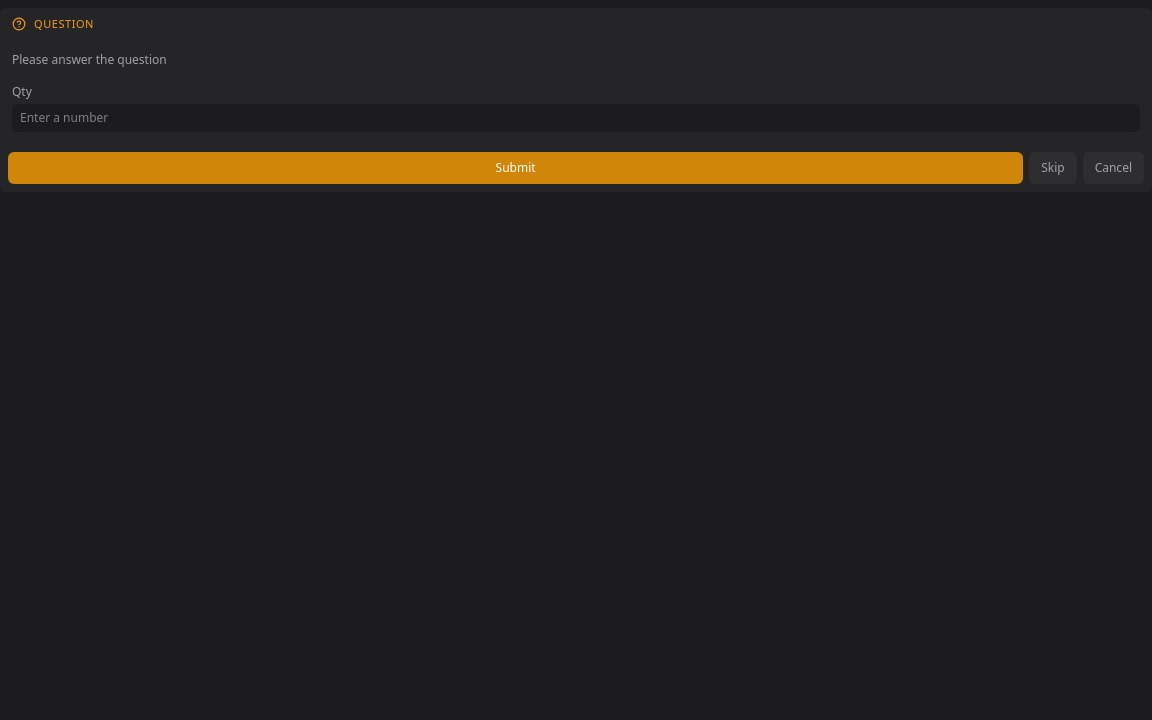
Scenario: AskUserQuestionCard number / integer › enforces minimum and maximum
In the number field with placeholder "Enter a number": (576, 118) left=12, top=104, right=1140, bottom=132, type "0"
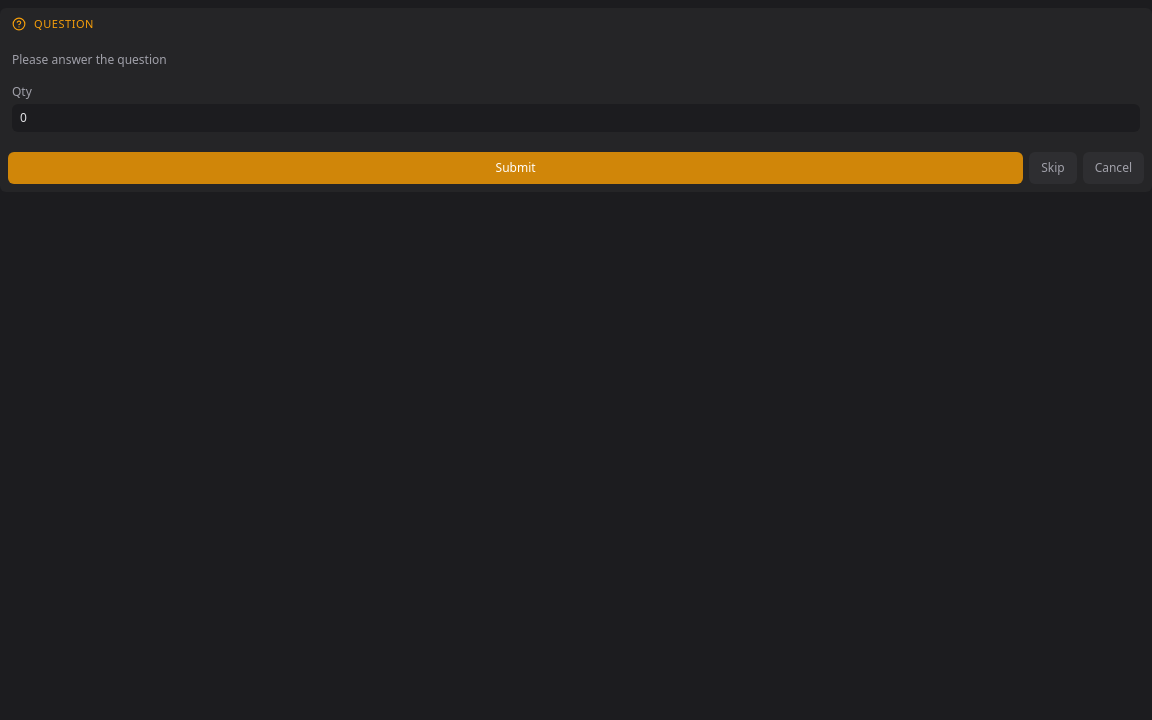
Click the button "Submit": (516, 168) left=8, top=152, right=1023, bottom=184
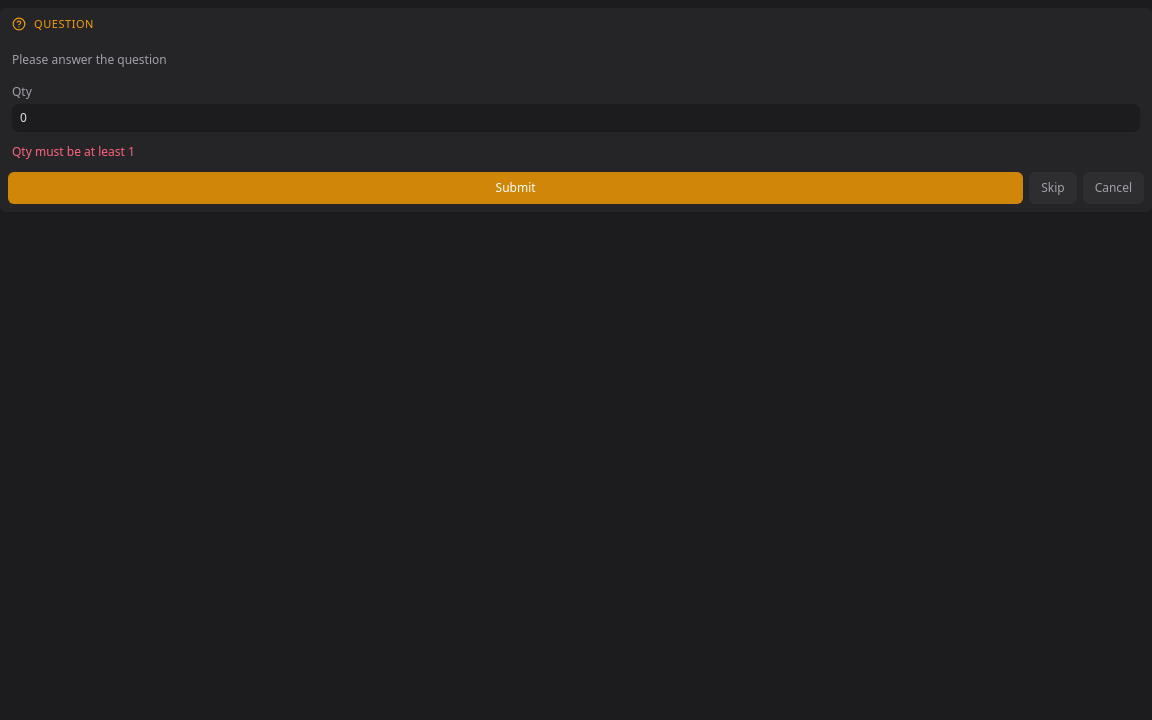
Now the text "Qty must be at least 1" is shown, box left=12, top=143, right=135, bottom=160
Replace the text in the number field with placeholder "Enter a number" with "9": (576, 118) left=12, top=104, right=1140, bottom=132
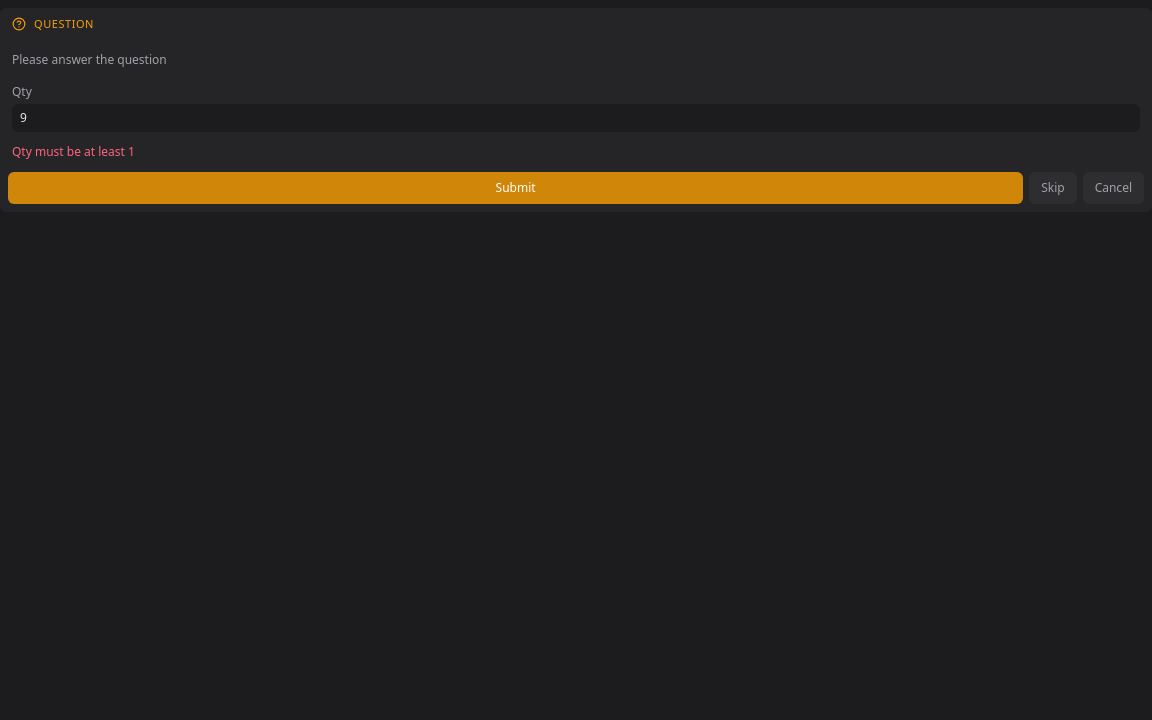
Click the button "Submit": (516, 188) left=8, top=172, right=1023, bottom=204
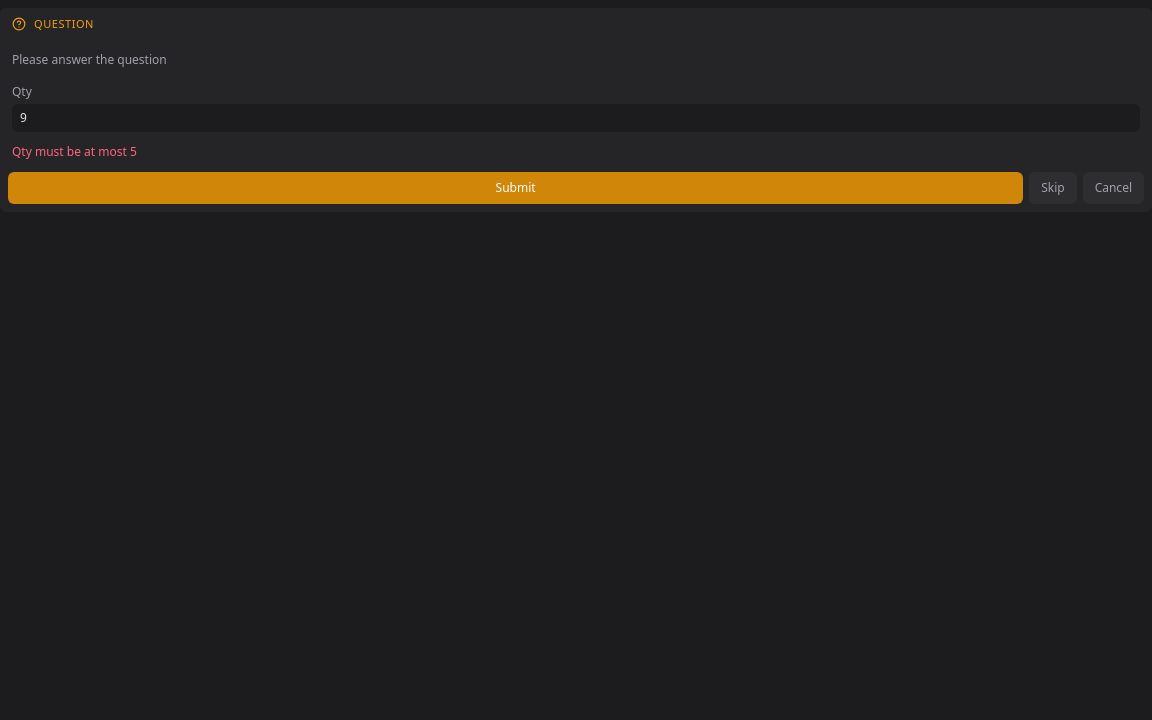
Now the text "Qty must be at most 5" is shown, box left=12, top=143, right=137, bottom=160
